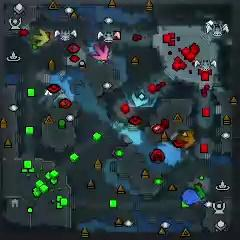p1: (182, 189, 202, 207)
x1: (92, 43, 110, 61)
x2: (33, 29, 49, 47)
x3: (131, 91, 149, 107)
x4: (192, 185, 206, 198)
x5: (179, 130, 196, 149)
